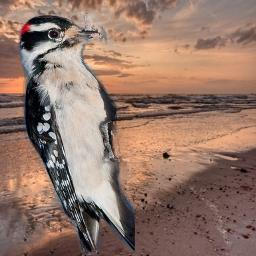Woodpecker: (18, 14, 135, 255)
